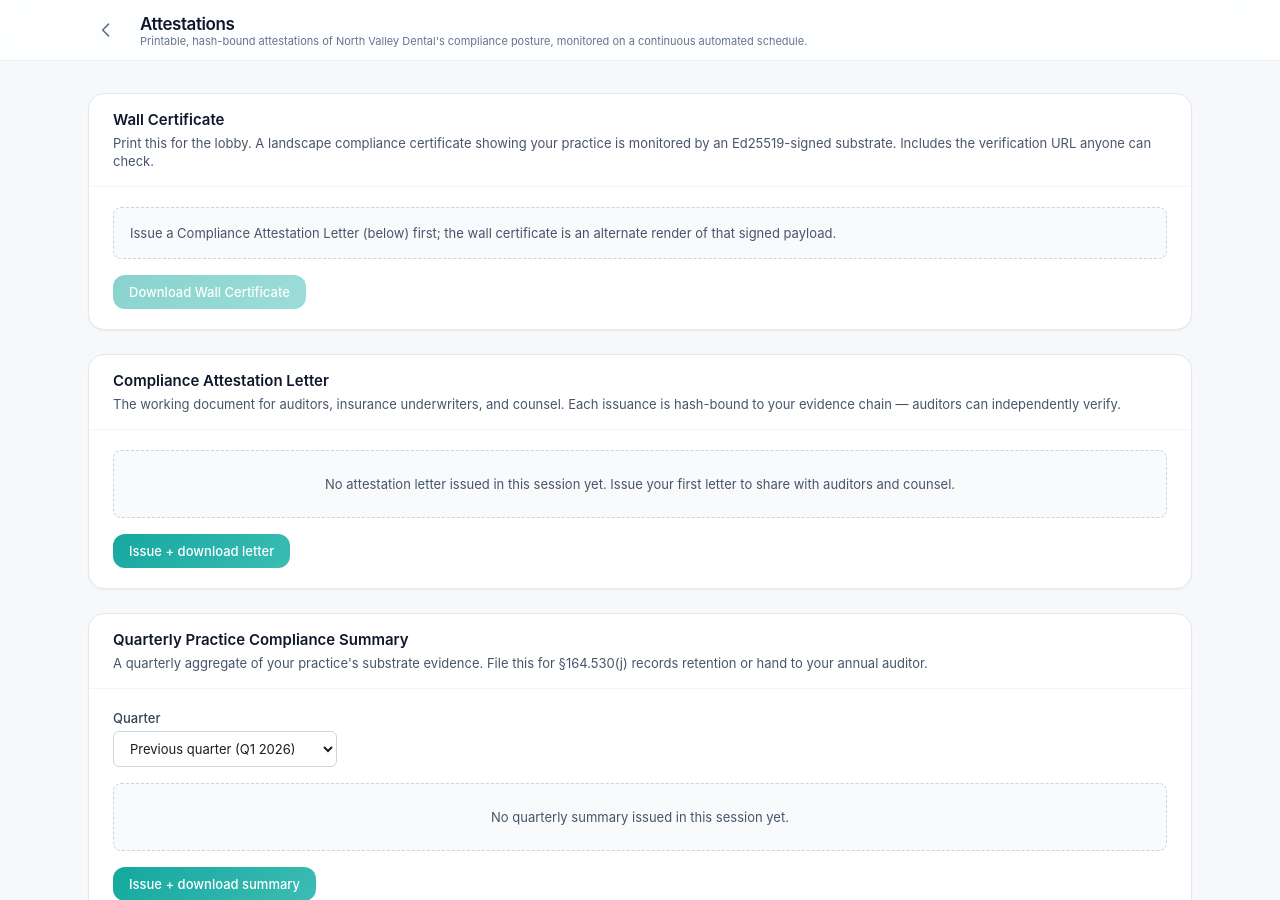
Test: ClientAttestations › F1 401 surfaces session-expired toast
The width and height of the screenshot is (1280, 900).
What coordinates should you click on to do the following:
click the button with aria-label "Issue and download Compliance Attestation Letter"
I would click on:
 (202, 551)
Its box is [113,534,290,568].
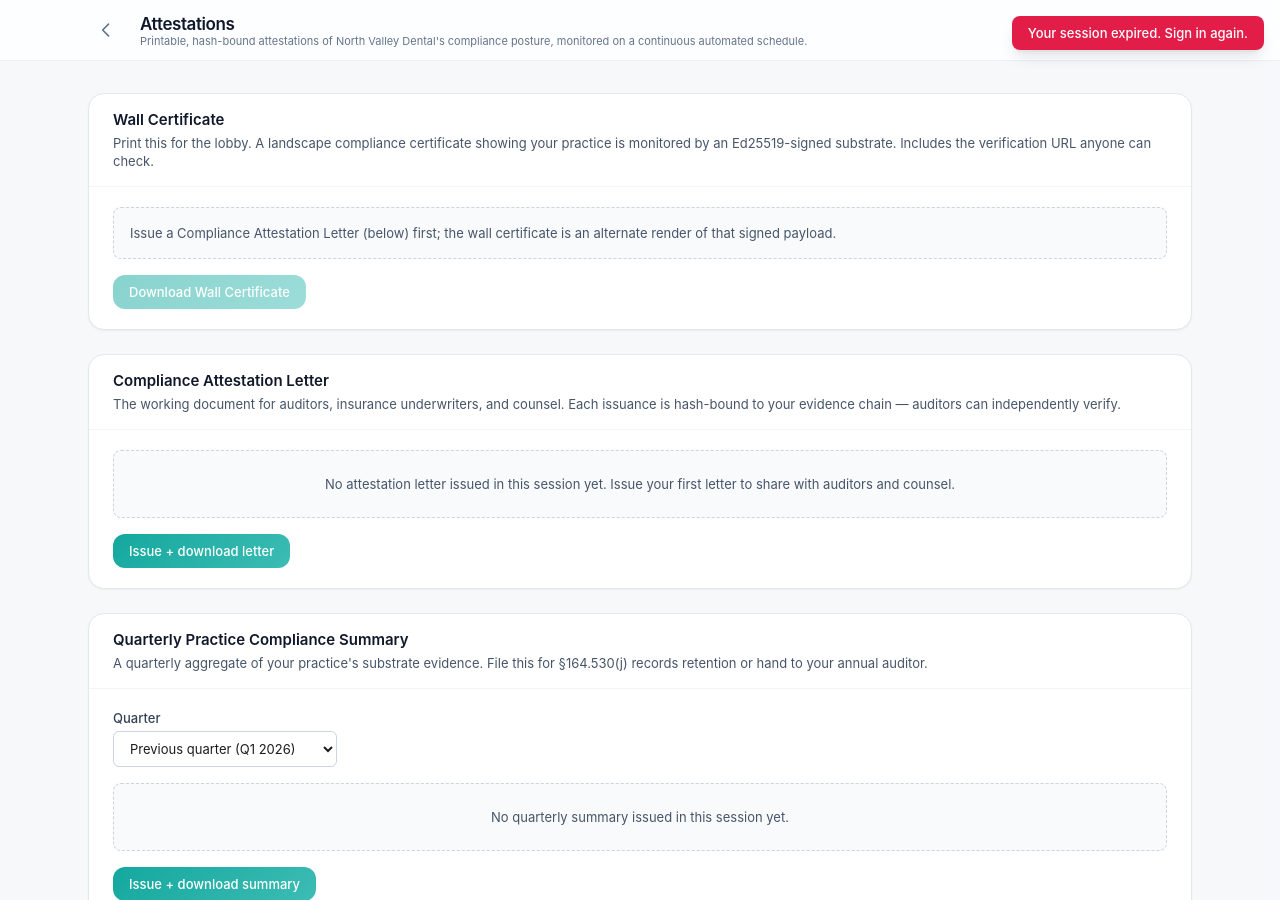
Now the text "Your session expired. Sign in again." is shown, box [1012,16,1264,50]
